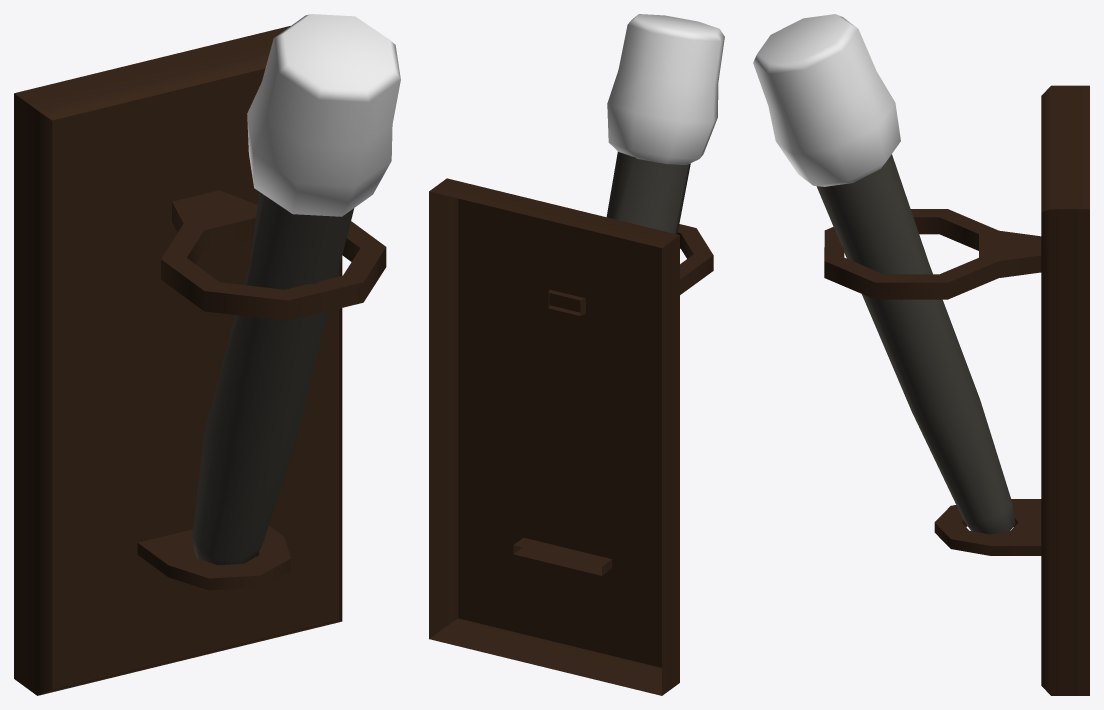
Rendered from porta_antorcha.fbx.
3 renders of one model, left to right at view 1: azimuth 30°, elevation 25°; view 2: azimuth 150°, elevation 25°; view 3: azimuth 270°, elevation 25°, orthographic. The views are drawn at different scales.
Parts seen in each view (by area): view 1: pCube24, palo, trapo, pTorus1, pTorus2; view 2: pCube24, trapo, palo, pTorus1, pTorus2; view 3: pCube24, palo, trapo, pTorus1, pTorus2.
Part boxes in pixels (bbox=[...]): pCube24: bbox=[14, 26, 342, 695]; palo: bbox=[192, 192, 354, 565]; trapo: bbox=[247, 14, 400, 216]; pTorus1: bbox=[161, 190, 386, 320]; pTorus2: bbox=[137, 526, 290, 590]; pCube24: bbox=[429, 178, 679, 695]; trapo: bbox=[607, 14, 724, 164]; palo: bbox=[606, 152, 690, 234]; pTorus1: bbox=[548, 224, 713, 315]; pTorus2: bbox=[513, 537, 612, 575]; pCube24: bbox=[1041, 85, 1089, 695]; palo: bbox=[816, 154, 1015, 534]; trapo: bbox=[753, 14, 900, 186]; pTorus1: bbox=[824, 209, 1041, 299]; pTorus2: bbox=[934, 499, 1041, 555].
Size of the model in its own units: 0.1468 by 0.3379 by 0.1691.
